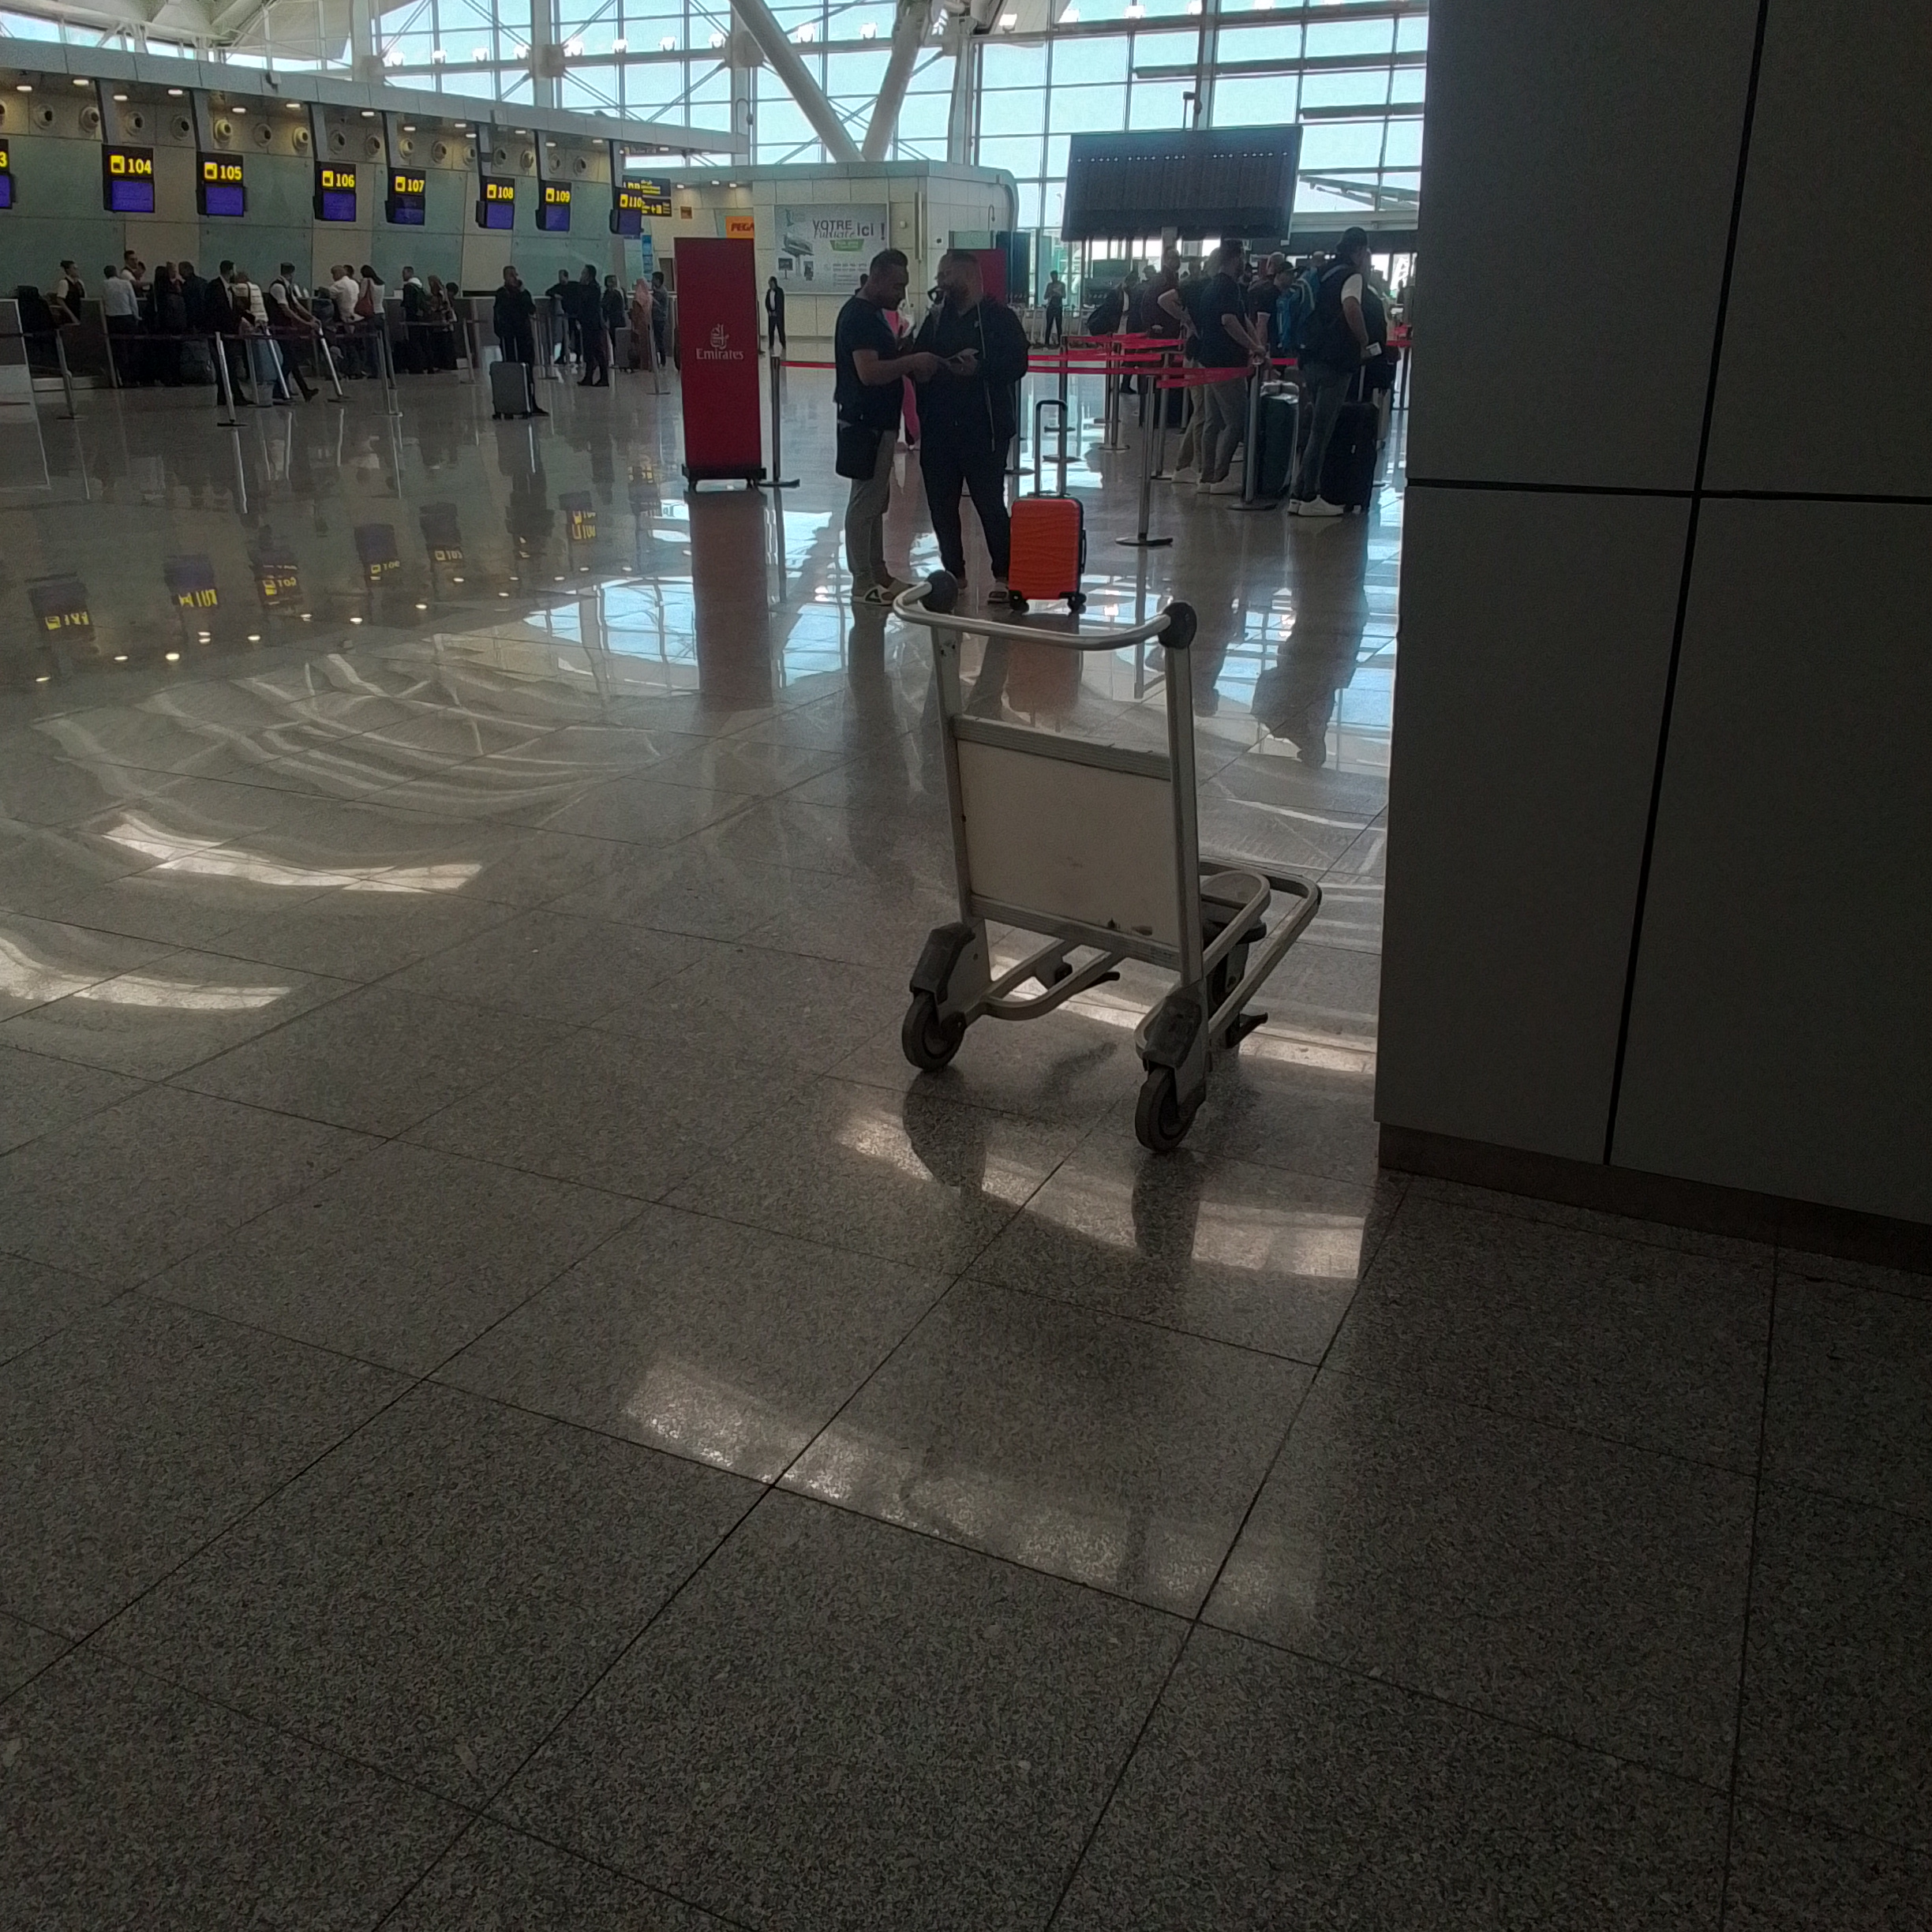airport-trolley: (885, 566, 1330, 1157)
